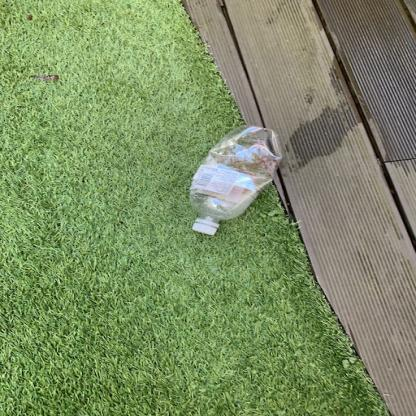trash: (188, 125, 288, 240)
